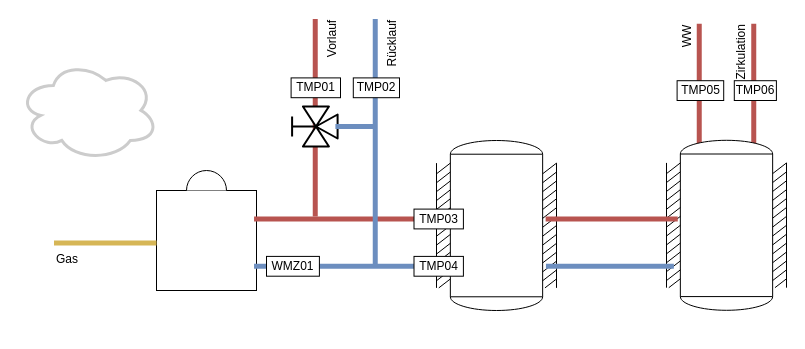
The diagram is 805 pixels wide and 349 high, and some of its shapes have lost their labels. The shapes that lost their labels are listed below. From the top down, each one's box as (x1, y1, x2, y2) in pixels, then its label:
(16, 58, 159, 161): ATS01
(156, 170, 256, 290): THERME01
(436, 140, 556, 310): SPEICHER01
(666, 139, 786, 310): SPEICHER02
